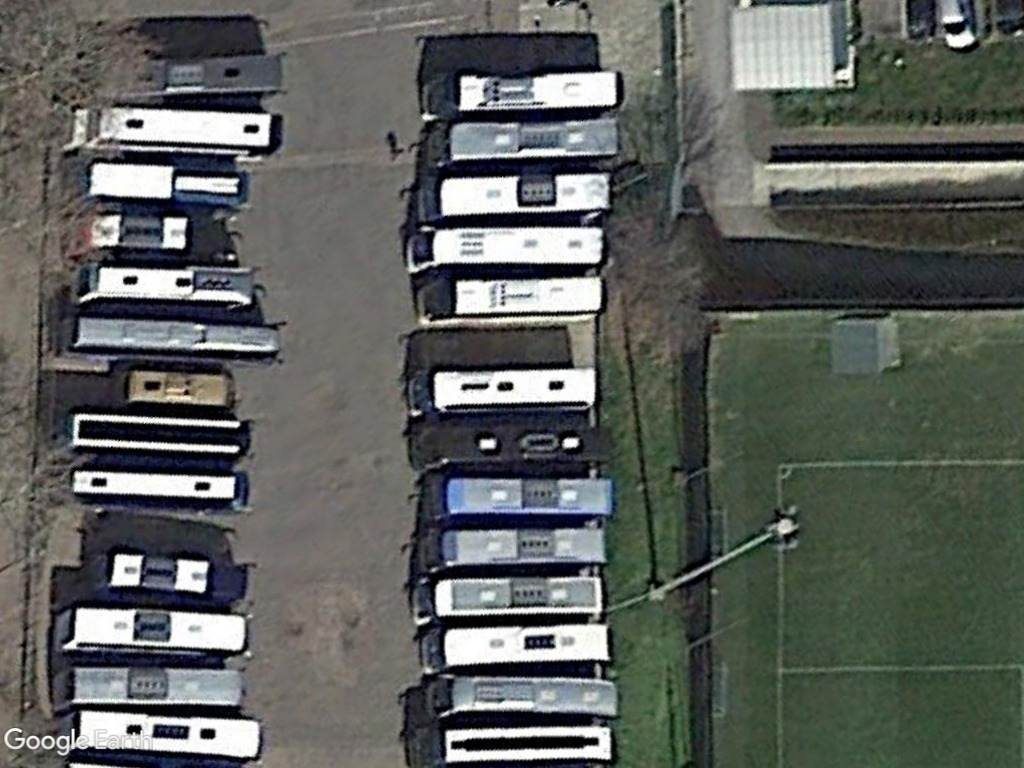bus: (62, 102, 284, 159), (50, 597, 249, 658), (404, 222, 615, 279), (62, 310, 283, 364), (416, 470, 620, 527), (63, 703, 268, 759), (415, 67, 626, 120), (415, 620, 614, 676), (412, 524, 611, 579), (403, 363, 603, 416), (406, 569, 606, 622), (66, 259, 260, 313), (406, 275, 610, 326), (65, 460, 254, 515), (413, 674, 620, 724), (45, 661, 249, 711), (417, 171, 613, 222), (59, 407, 254, 457), (422, 122, 619, 170), (406, 723, 616, 768), (81, 156, 251, 209)
other: (95, 547, 247, 597)
